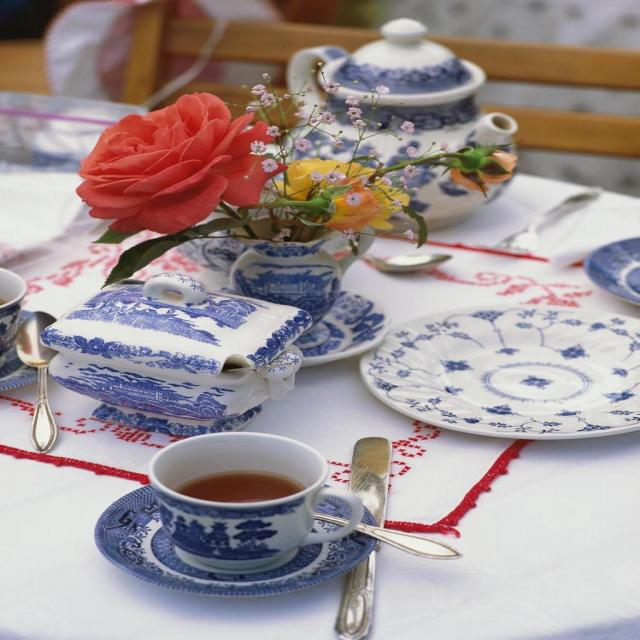Tea: (172, 474, 302, 504)
